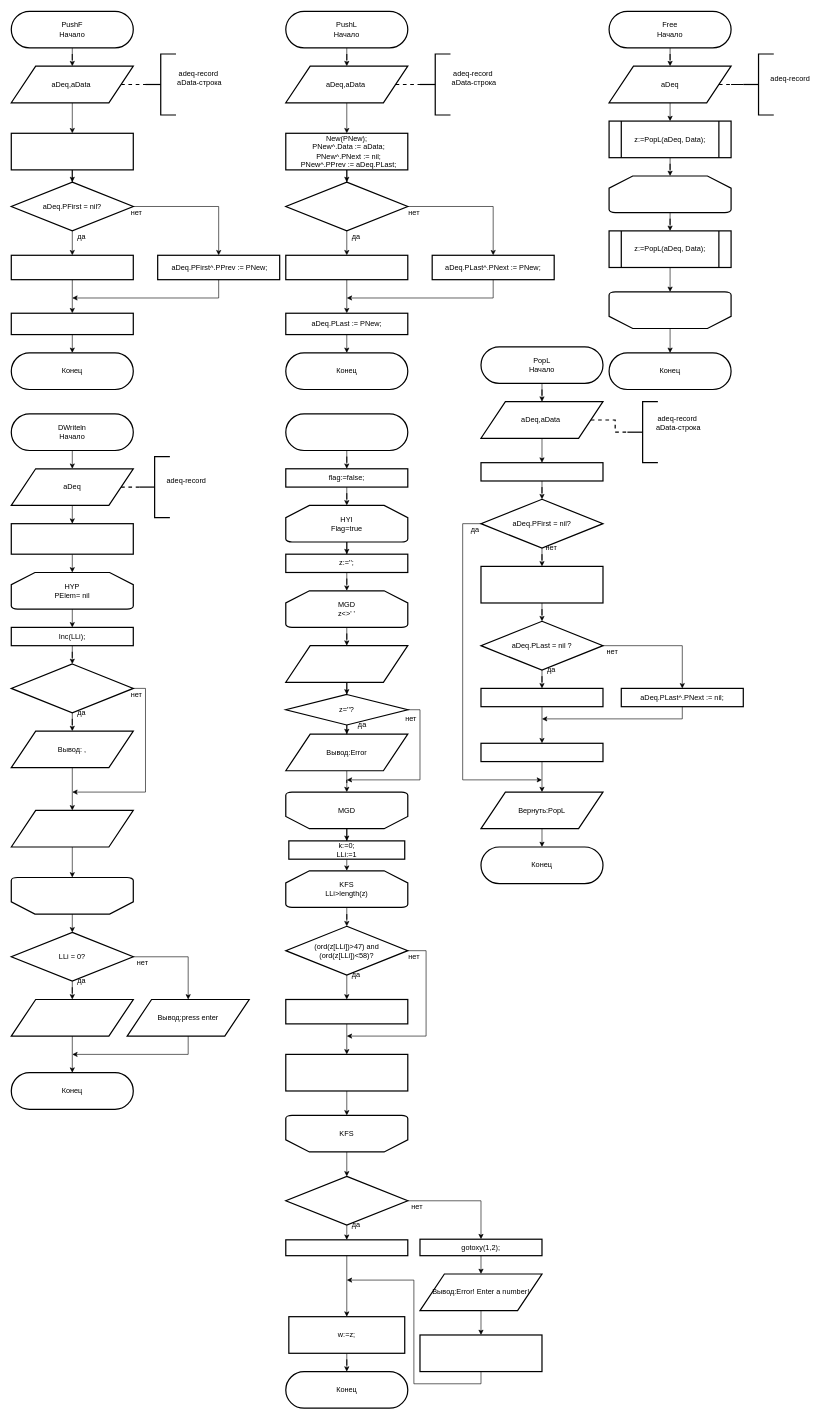
Image size: 830x1419. Some labels were removed from this diagram. Here are the shapes that lost their labels. From the top down, the box of each, then its label:
(10, 132, 134, 170): New(PNew); PNew^.Data := aData; PNew^.PPrev := nil; PNew^.PNext := aDeq.PFirst;
(285, 181, 408, 231): aDeq.PLast = nil?
(608, 175, 731, 213): HFF z=false
(10, 254, 134, 280): aDeq.PLast := PNew
(285, 254, 408, 280): aDeq.PFirst := PNew
(10, 312, 134, 335): aDeq.PFirst := PNew;
(608, 291, 731, 329): HFF
(285, 413, 408, 451): check Начало
(480, 462, 603, 481): PopL := False;
(10, 523, 134, 554): PElem := aDeq.PFirst; LLi := 0;
(480, 565, 603, 603): PDel := aDeq.PLast; aData := PDel^.Data; aDeq.PLast := PDel^.PPrev;
(285, 645, 408, 683): Ввод:z
(10, 663, 134, 713): LLi > 1?
(480, 687, 603, 707): aDeq.PFirst := nil?
(480, 742, 603, 762): Dispose(PDel); PopL := True;
(10, 809, 134, 847): Вывод: PElem^.Data
(10, 877, 134, 914): HYP
(10, 999, 134, 1036): Вывод:No elemnts
(285, 999, 408, 1024): k:=k+1;
(285, 1053, 408, 1091): LLi:=LLi+1
(285, 1175, 408, 1225): k=length(z)?
(285, 1239, 408, 1256): flag:=true;
(419, 1334, 542, 1372): delay(350); clrscr; delline;
